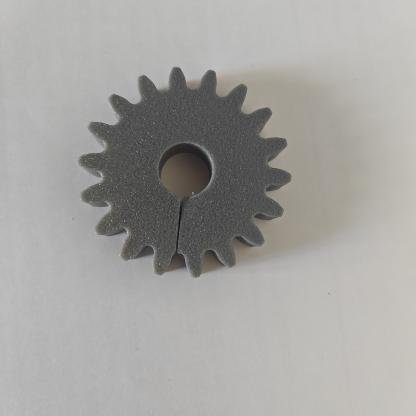defect: (127, 177, 242, 282)
gear: (56, 46, 321, 320)
